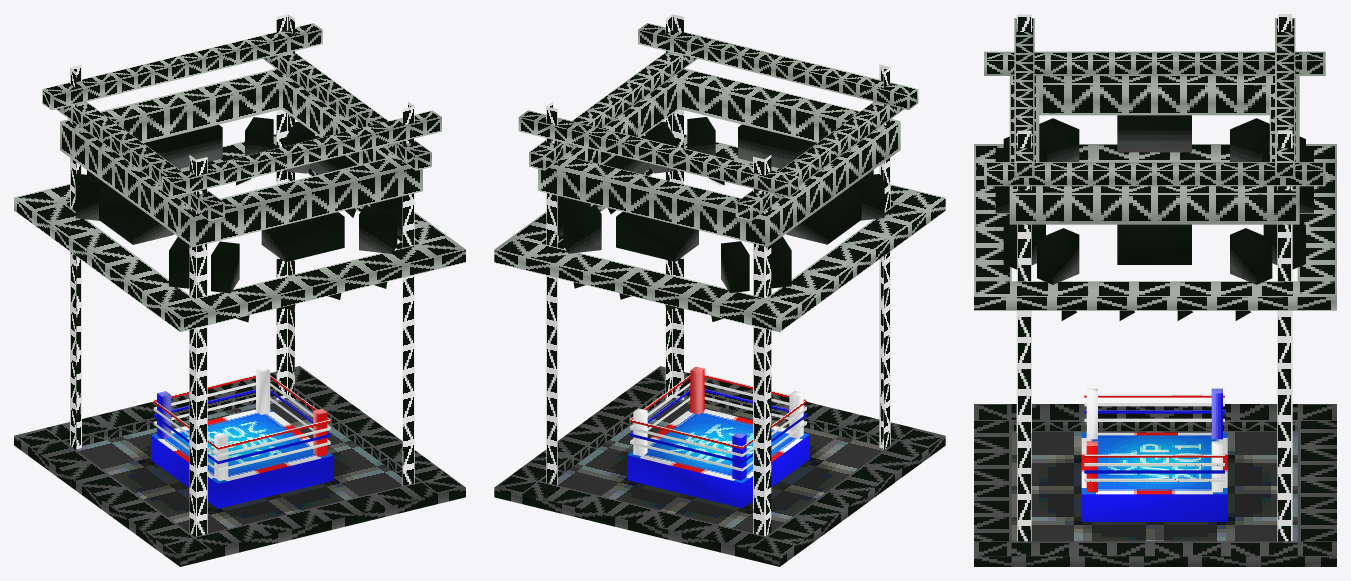
File: ps2_save-icons_k1worldgrandprix2001.glb
The picture shows the model from 3 angles, left to right: view 1: azimuth 30°, elevation 25°; view 2: azimuth 150°, elevation 25°; view 3: azimuth 270°, elevation 25°; orthographic projection. The views are drawn at different scales.
Visible parts, largest first — view 1: k1view.ico; view 2: k1view.ico; view 3: k1view.ico.
Part boxes in pixels (bbox=[...]): k1view.ico: bbox=[14, 14, 465, 566]; k1view.ico: bbox=[494, 14, 945, 566]; k1view.ico: bbox=[974, 14, 1336, 566].
Bounding box in the file's own units: 3.73 × 4.79 × 3.76.
Materials: 1 (1 with a texture image).
